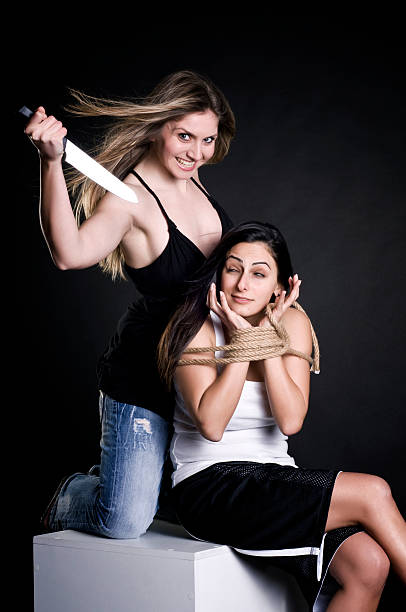knife: (20, 103, 139, 206)
